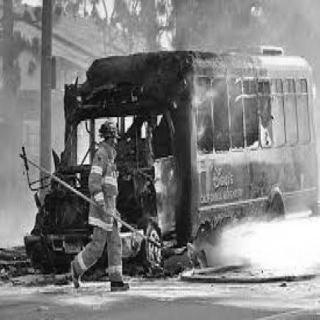other: (223, 208, 311, 270)
